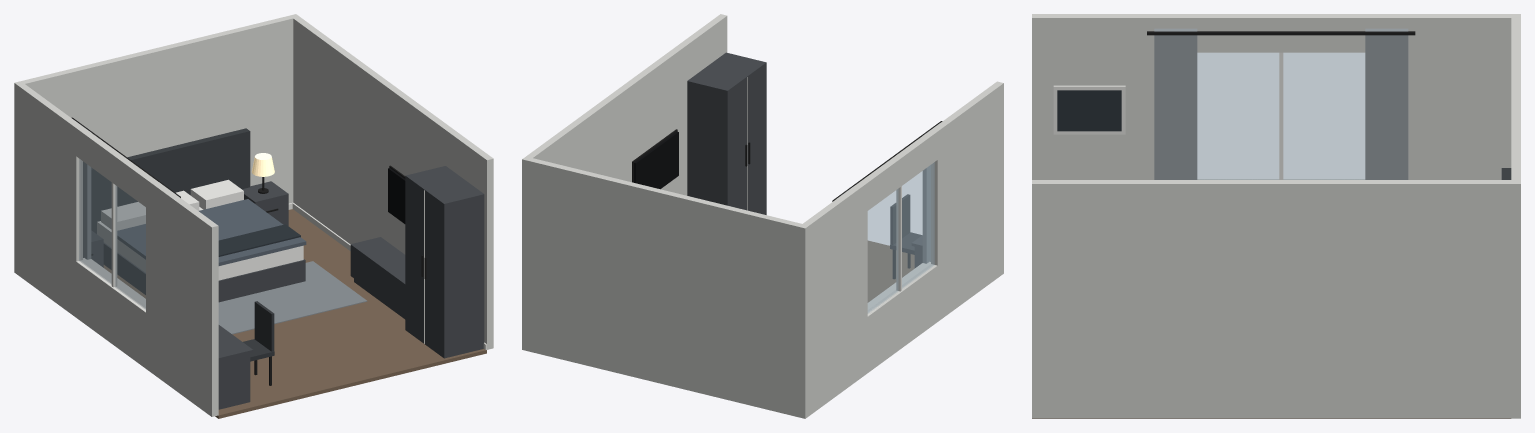
The model's file is room-8.glb.
3 views of the same model, side by side, from view 1: azimuth 30°, elevation 25°; view 2: azimuth 150°, elevation 25°; view 3: azimuth 270°, elevation 25° (orthographic). The views are drawn at different scales.
Parts seen in each view (by area): view 1: wall, wood, floor, glass, headboard, rug, linen, blanket, window_frame, runner, chair, curtain (+4 smaller); view 2: wall, wood, glass, screen, floor, window_frame, chair, curtain, metal; view 3: wall, glass, curtain, runner, window_frame, metal, floor.
Boxes of the visible parts, <box> form: wall: <box>14,14,493,416</box>; wood: <box>91,166,484,409</box>; floor: <box>103,209,486,418</box>; glass: <box>79,159,145,309</box>; headboard: <box>91,128,250,233</box>; rug: <box>218,261,367,334</box>; linen: <box>97,179,303,280</box>; blanket: <box>117,199,306,265</box>; window_frame: <box>77,182,145,311</box>; runner: <box>218,224,300,256</box>; chair: <box>243,301,274,361</box>; curtain: <box>77,122,175,259</box>; wall: <box>522,14,1003,418</box>; wood: <box>687,52,922,267</box>; glass: <box>867,162,934,313</box>; screen: <box>634,131,678,189</box>; floor: <box>867,240,914,302</box>; window_frame: <box>867,186,930,315</box>; chair: <box>890,194,921,254</box>; curtain: <box>837,123,939,263</box>; metal: <box>632,121,942,279</box>; wall: <box>1032,14,1520,418</box>; glass: <box>1197,52,1365,179</box>; curtain: <box>1154,28,1408,179</box>; runner: <box>1057,90,1121,131</box>; window_frame: <box>1053,52,1283,179</box>; metal: <box>1147,31,1415,35</box>; floor: <box>1032,418,1510,418</box>.
Size of the model in its own units: 4.2 by 2.75 by 5.1.
